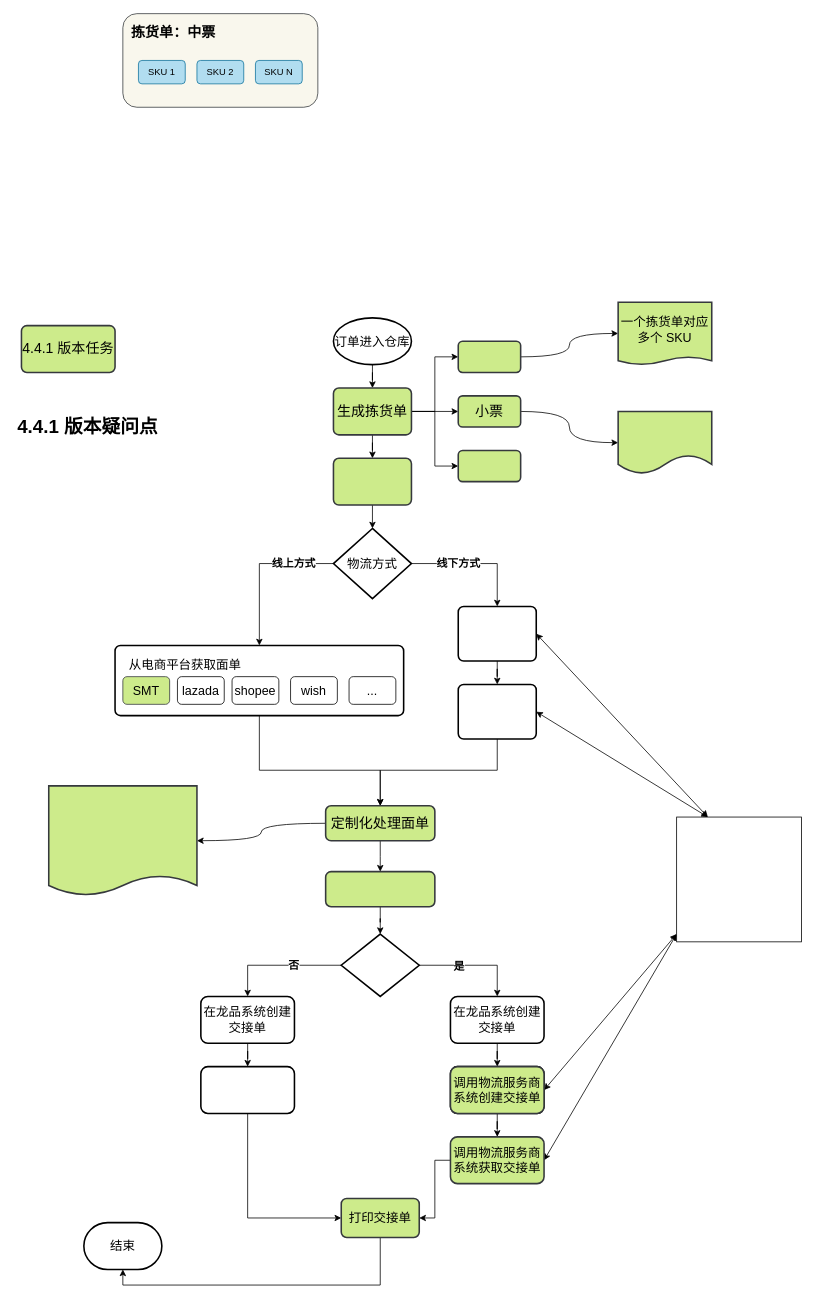
Image size: 815x1305. Some labels were removed from this diagram. Here are the shapes that lost their labels. From the top down, the centre of each, then its label:
At [489,356]: "中票".
At [664,442]: "一个拣货单对应一个 SKU".
At [372,481]: "打印拣货单".
At [489,465]: "可扩展".
At [497,633]: "在物流服务商 创建物流单".
At [497,711]: "从物流服务商 获取交接单".
At [122,840]: "针对不同的提供方进行配置，配置标识获取的 PDF 文件中第几页为面单。自定义坐标位置写入自定义信息。文本信息支持自定义字体大小，粗细。".
At [379,888]: "打印面单".
At [738,879]: "物流服务商".
At [380,965]: "是否从物流服务商处获取交接单".
At [247,1089]: "生成通用交接单".
